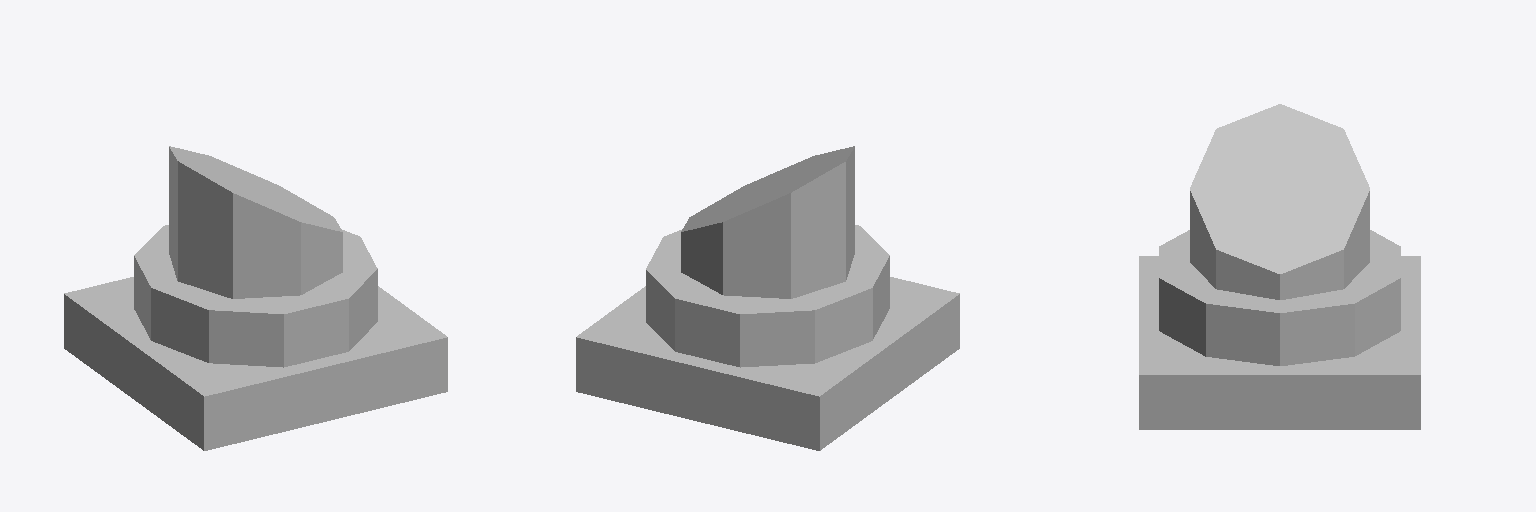
The model's file is broken_column2.obj.
3 renders of one model, left to right at view 1: azimuth 30°, elevation 25°; view 2: azimuth 150°, elevation 25°; view 3: azimuth 270°, elevation 25°, orthographic.
Parts seen in each view (by area): view 1: Object.1; view 2: Object.1; view 3: Object.1.
Part boxes in pixels (x1,y1,x2,y2): Object.1: (64, 146, 447, 450); Object.1: (576, 146, 959, 450); Object.1: (1139, 104, 1420, 429).
Bounding box in the file's own units: 0.9985 × 0.8927 × 0.9985.